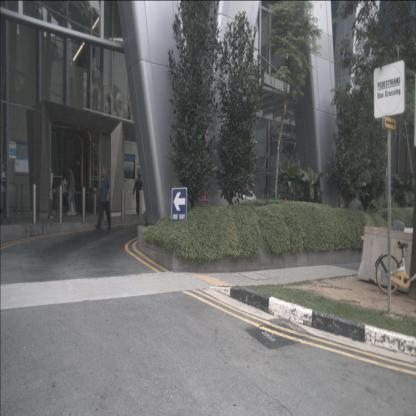human-pedestrian-adult: (95, 165, 111, 231), (66, 164, 77, 215), (133, 172, 145, 214), (62, 172, 67, 212)
movable_object-barrier: (356, 225, 413, 295)
vehicle-bicycle: (374, 240, 416, 296)
